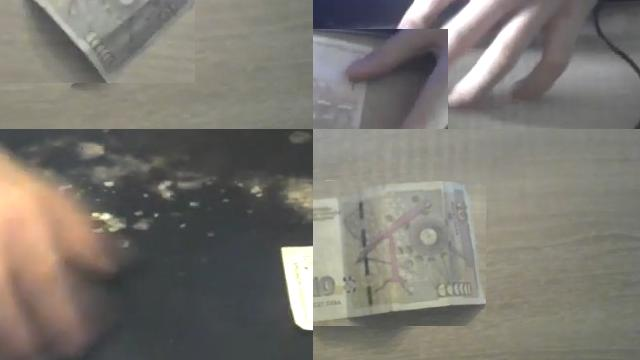10leva: (313, 181, 486, 324), (27, 0, 195, 83)
5leva: (313, 30, 438, 129)
